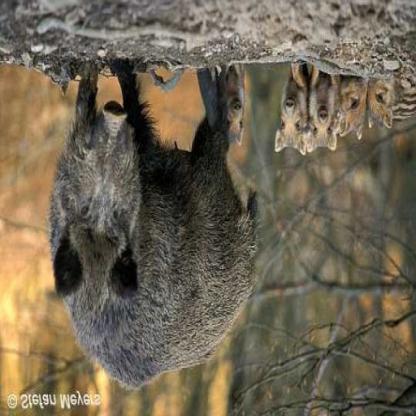boar: (39, 57, 259, 413), (215, 60, 262, 157), (368, 58, 415, 144), (274, 62, 308, 159), (307, 67, 340, 157), (341, 57, 367, 142)
